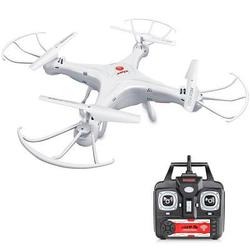drone: (2, 18, 250, 169)
